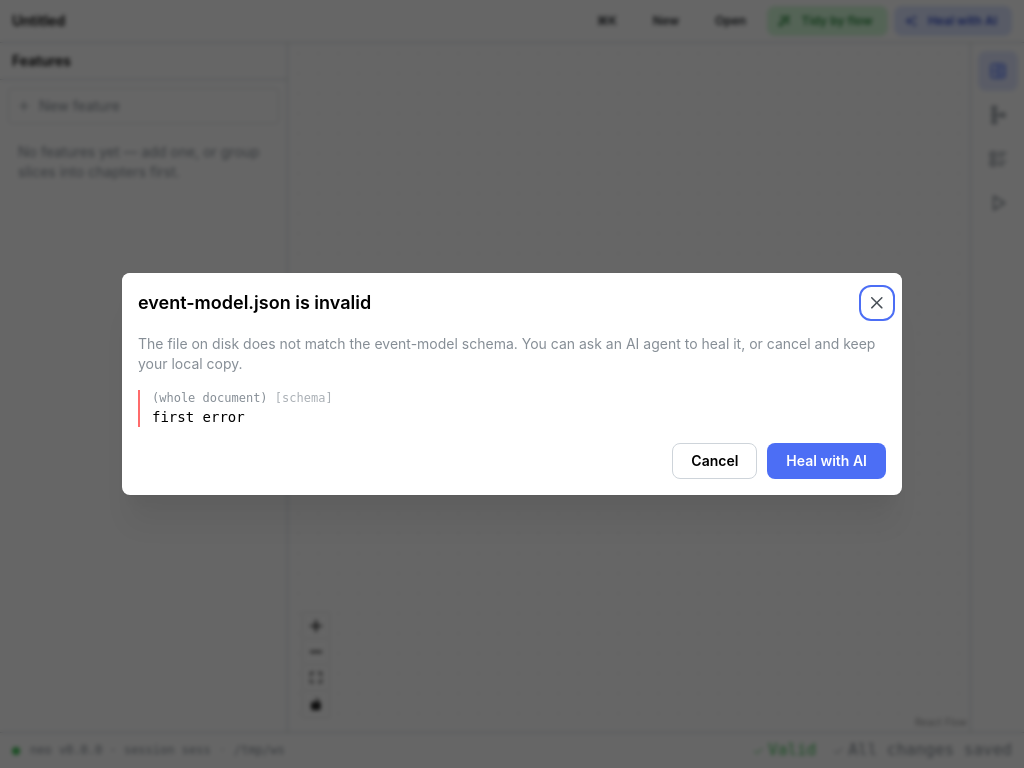
Test case: App — event-model load + heal flow › Heal still-invalid: modal reappears with new errors
Click the button "Heal with AI": {"x": 827, "y": 461} 767,443 -> 886,479
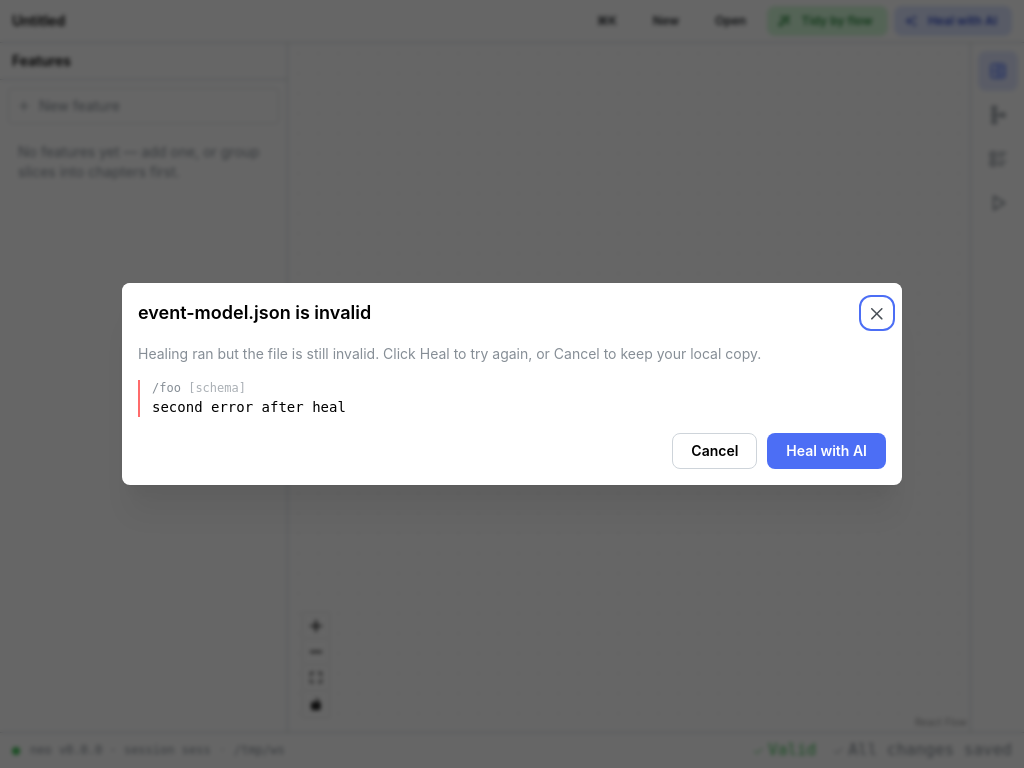
Now the text "second error after heal" is shown, box 152,399 -> 346,415
Now the text "still invalid" is shown, box 138,345 -> 761,362
